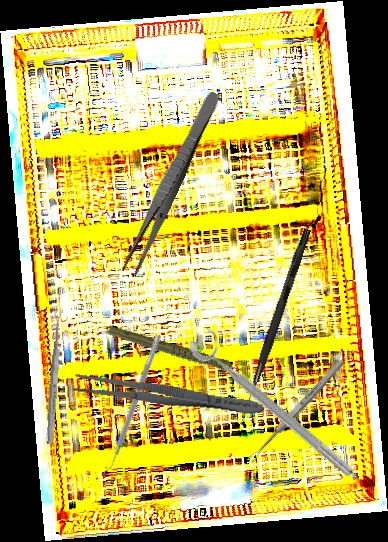Dressing Forceps: (119, 88, 223, 278), (70, 370, 267, 421)
Fixation Ring: (183, 321, 367, 483)
Handpiece: (106, 298, 253, 410)
Hook Surgical: (239, 227, 311, 423)
Spatula Surgical: (101, 331, 162, 476)
Surgical Spoon: (246, 357, 347, 464), (45, 309, 64, 445)
